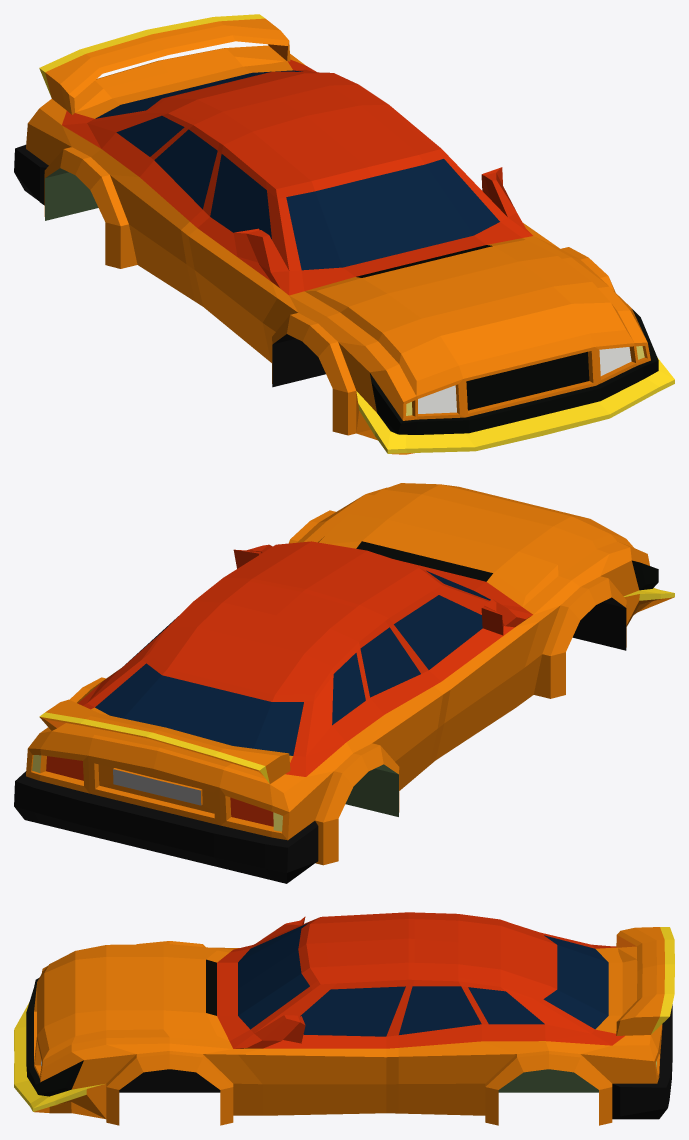
Rendered from car.glb.
The picture shows the model from 3 angles, top to bottom: view 1: azimuth 30°, elevation 25°; view 2: azimuth 150°, elevation 25°; view 3: azimuth 270°, elevation 25°; orthographic projection. The views are drawn at different scales.
Visible parts, largest first — view 1: Car; view 2: Car; view 3: Car.
Part boxes in pixels (box(x1,y1,x2,y2)): Car: box(14, 14, 674, 454); Car: box(14, 483, 674, 883); Car: box(14, 912, 674, 1125).
Size of the model in its own units: 4.48 by 2.23 by 10.48.
Materials: 1 (1 with a texture image).
